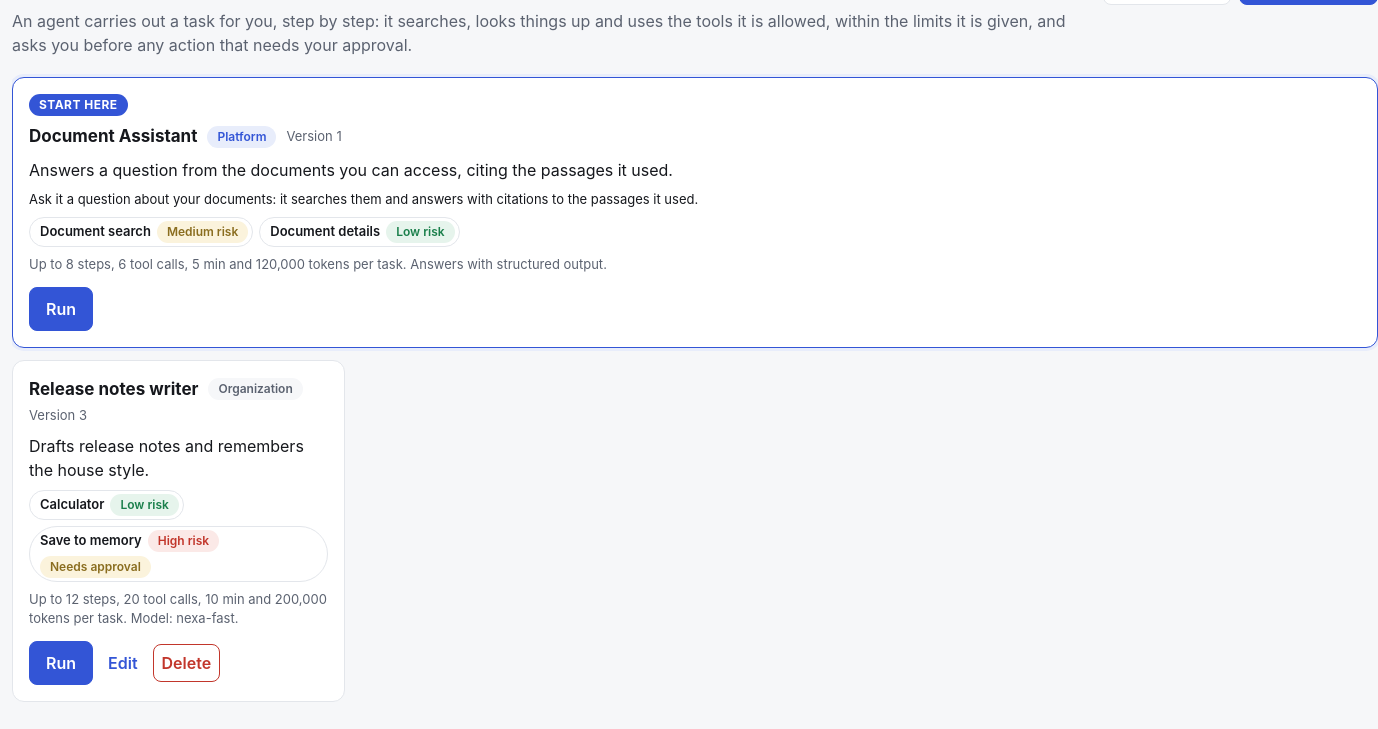
it: AgentsPage › keeps an agent whose deletion was refused, and says why
Click the button with aria-label "Delete Release notes writer".
click(186, 662)  # box [152,644,220,682]
(page scrolled)
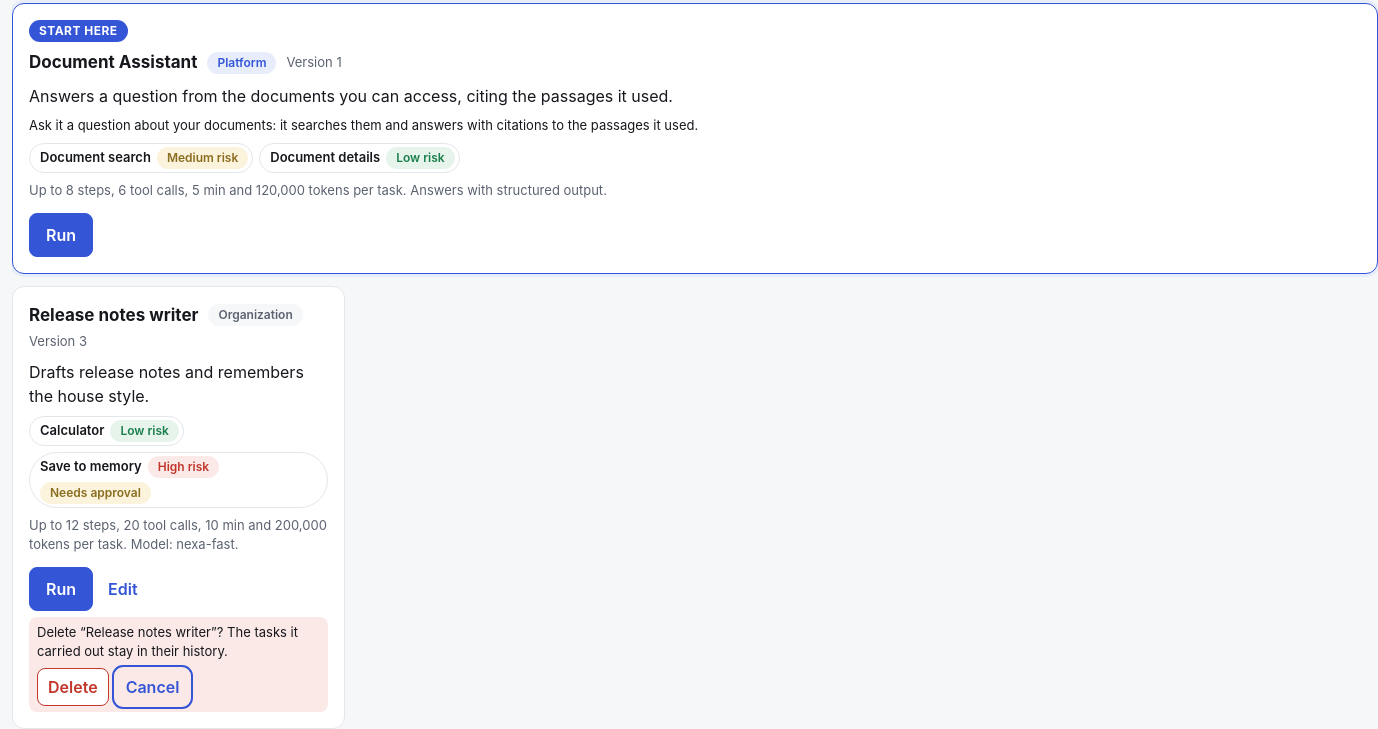
Click the button "Delete".
click(73, 686)  # box [37,668,109,706]
(page scrolled)
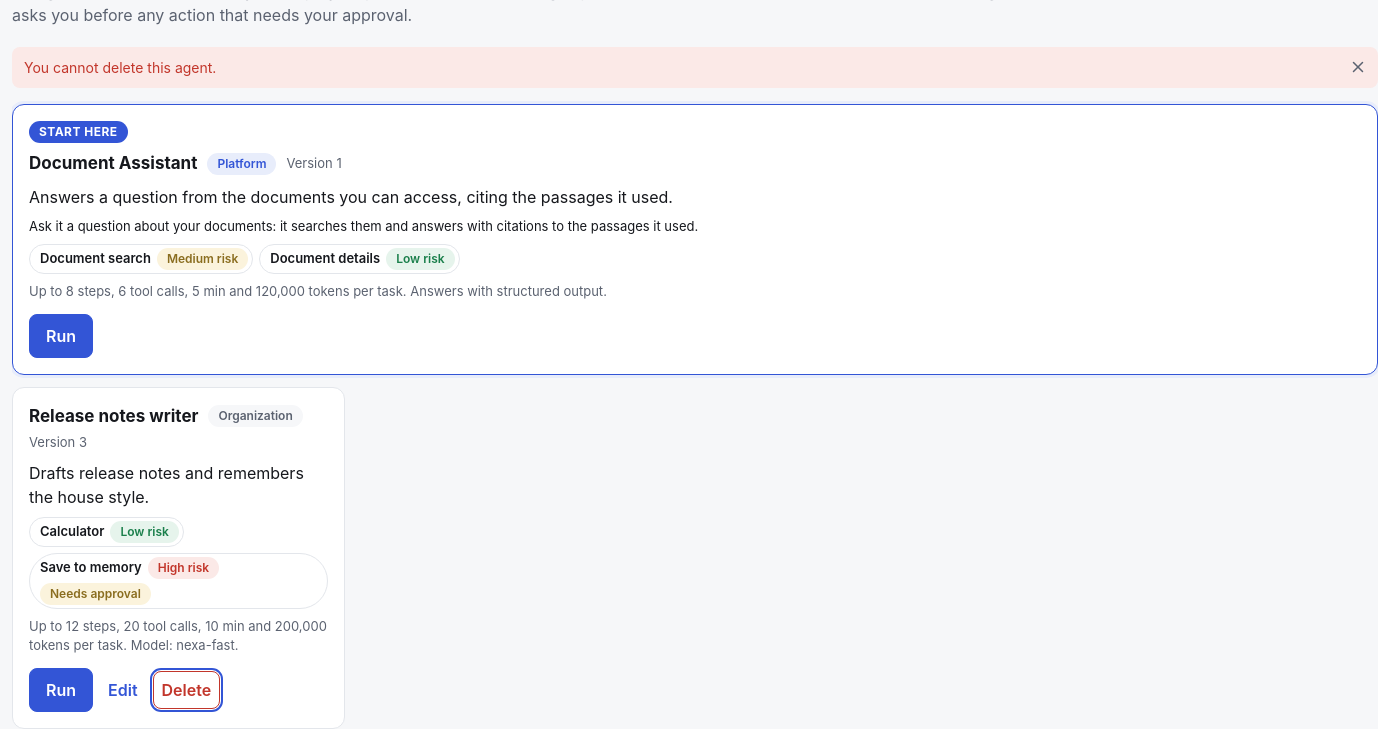
expect the list item "Release notes writer" is shown: met, box [12,386,344,728]
expect the message reads "You cannot delete this agent.": met, box [24,59,216,76]
